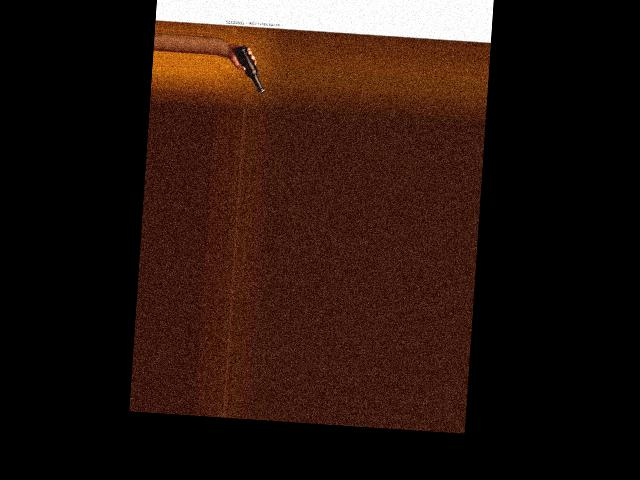beer: (230, 44, 267, 93)
